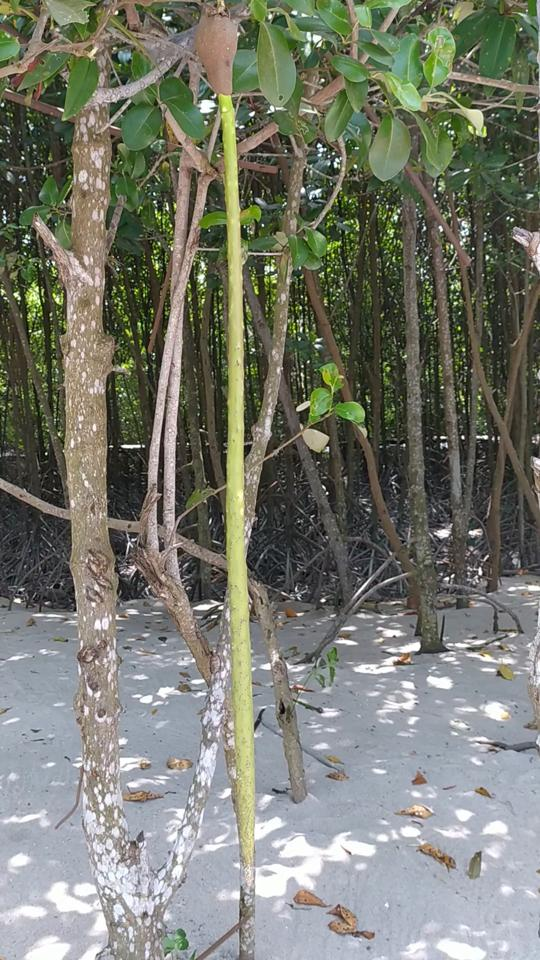mentah: (179, 12, 282, 906)
